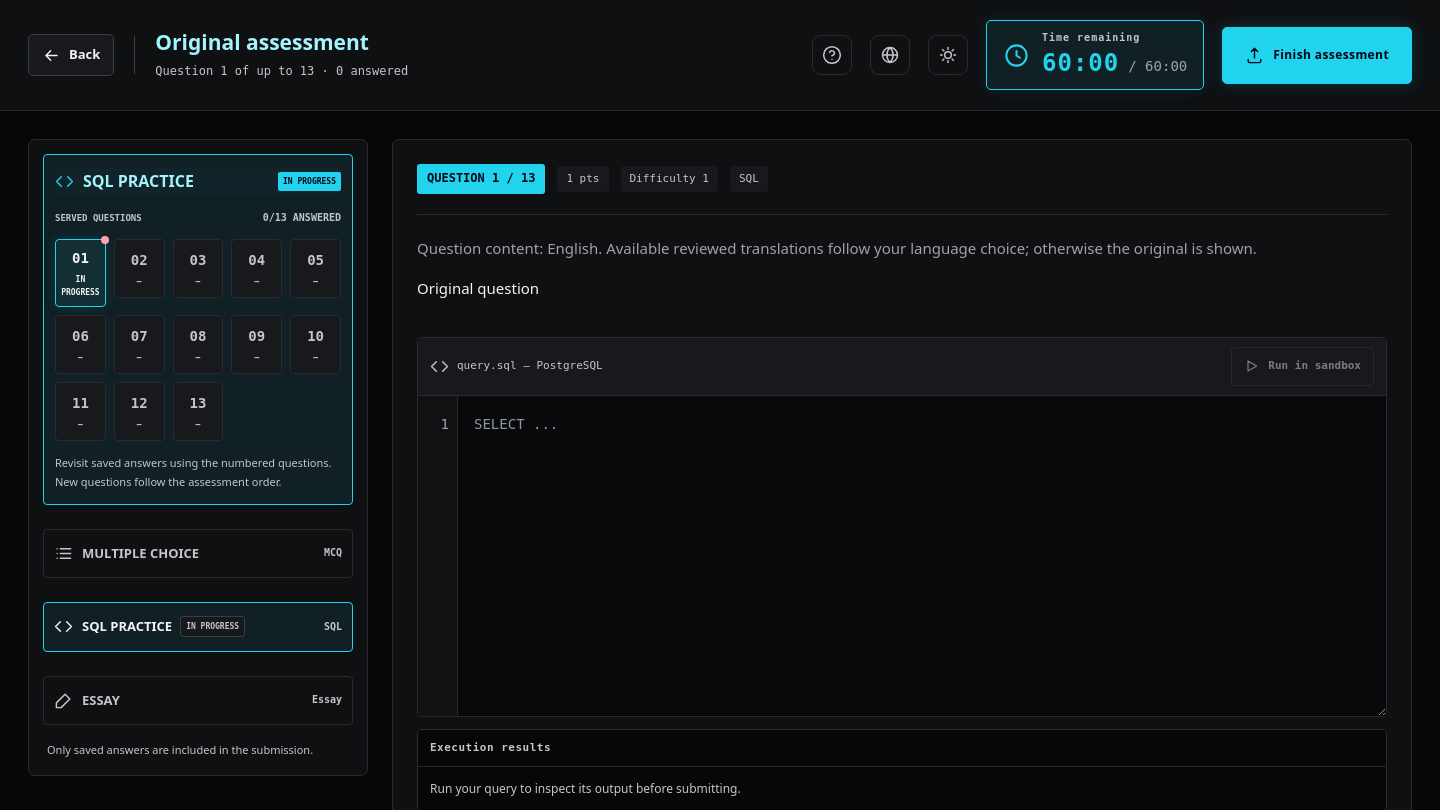
Test: keeps SQL output verbatim and does not rerun SQL when switching locale
Type "SELECT 1234.5" into the text box.
click(922, 556); type("SELECT 1234.5")  # box [458,396,1386,716]
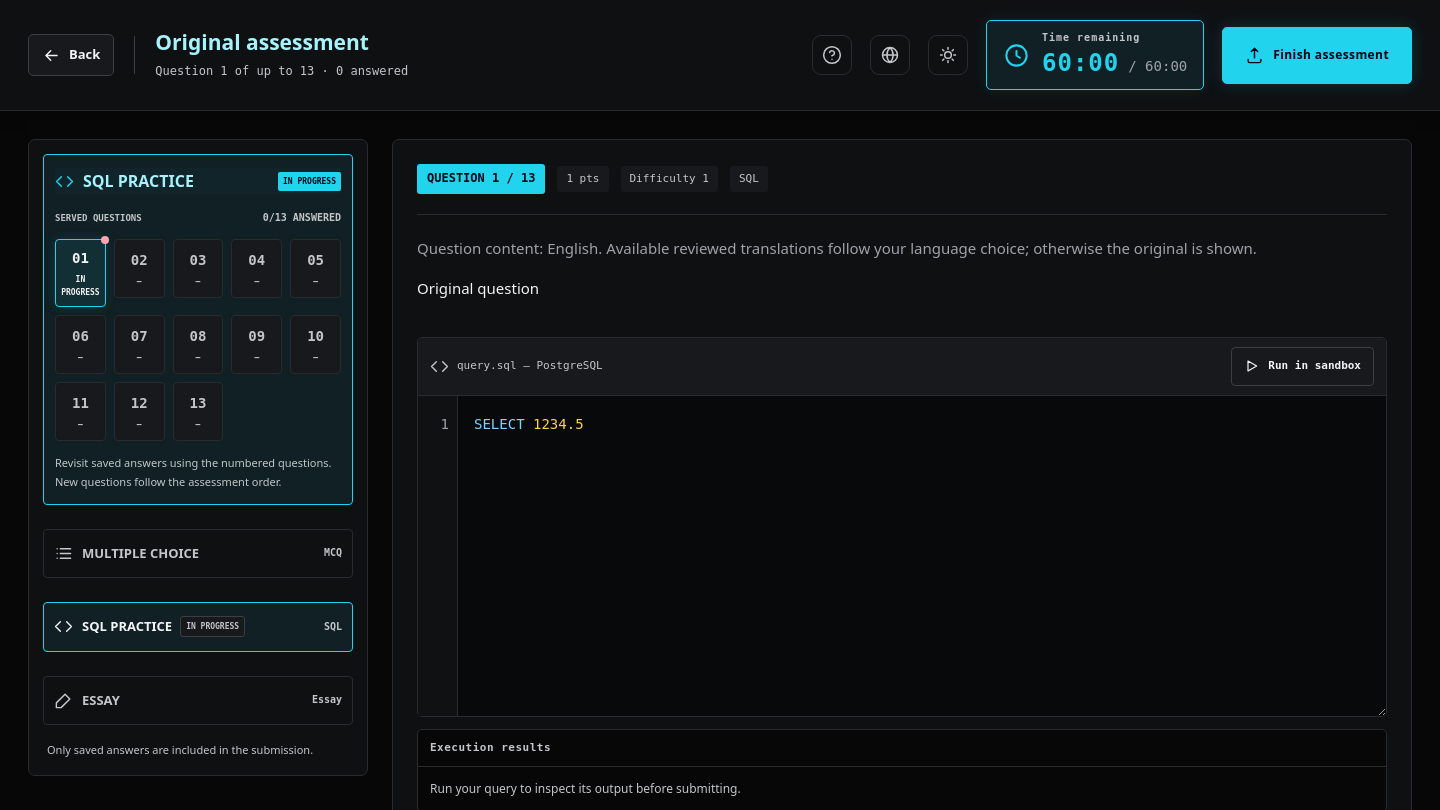
Click the button "Run in sandbox".
click(1303, 366)  # box [1231,347,1374,386]
(page scrolled)
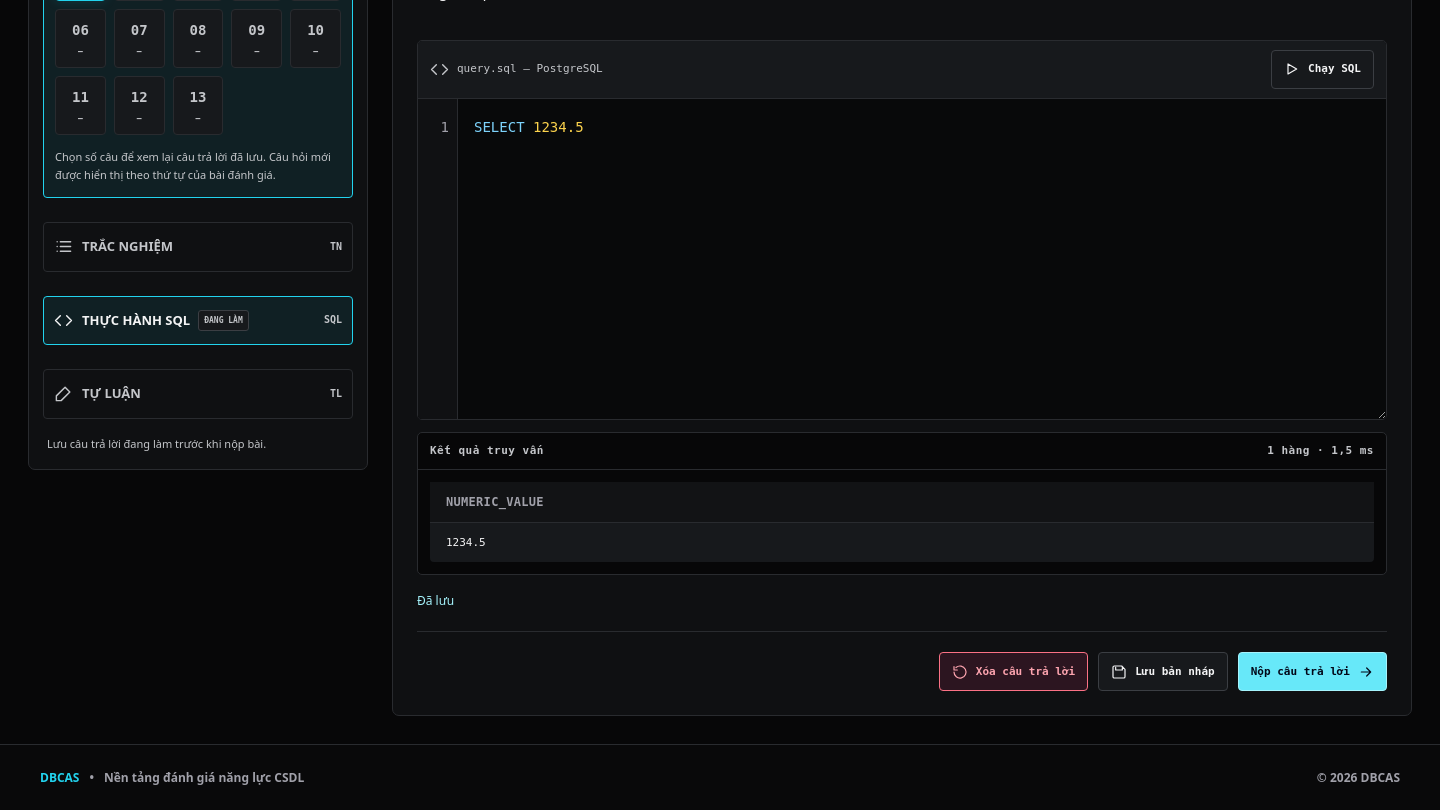
Expected: the text "1 hàng · 1,5 ms" is shown, [1267,442,1374,460]
Expected: the cell reads "1234.5", [446,536,486,549]
